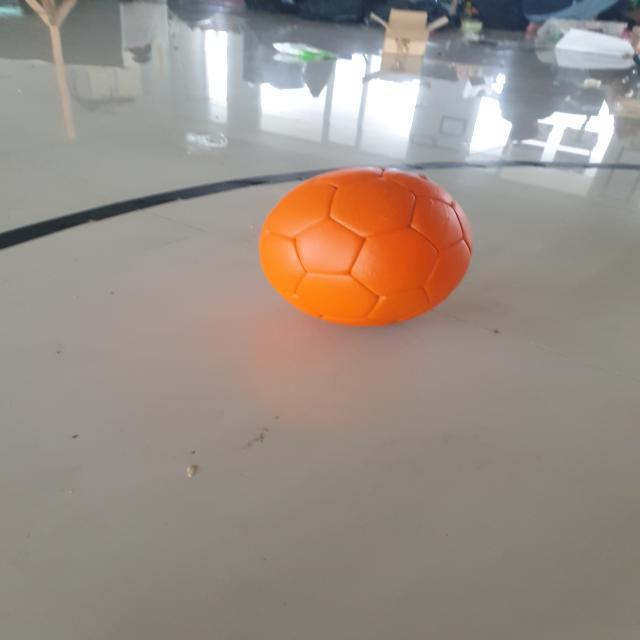bola: (254, 158, 477, 334)
